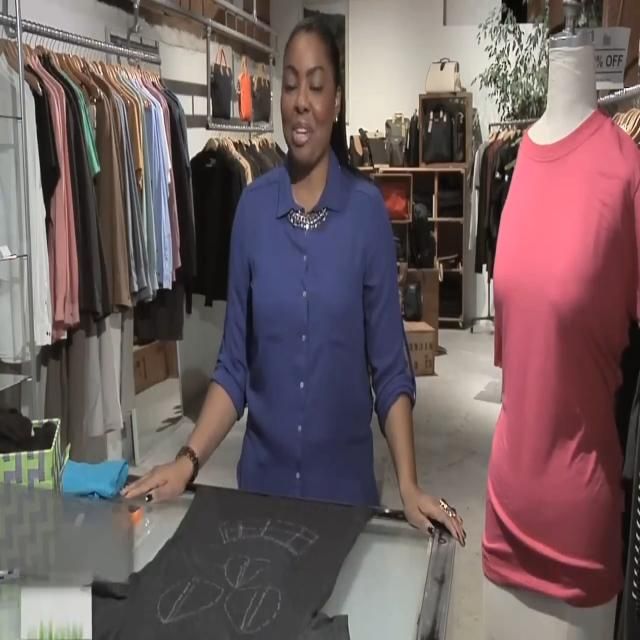Shirt: (209, 146, 417, 506)
